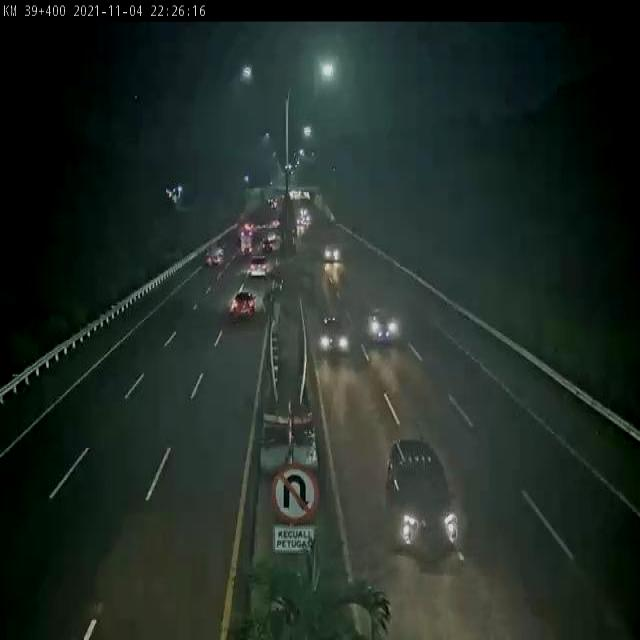Car: (386, 432, 468, 573), (319, 313, 352, 357), (367, 307, 402, 346), (229, 290, 257, 323), (247, 254, 271, 277), (203, 245, 224, 268), (323, 243, 343, 265)
Truck: (235, 206, 260, 266)
